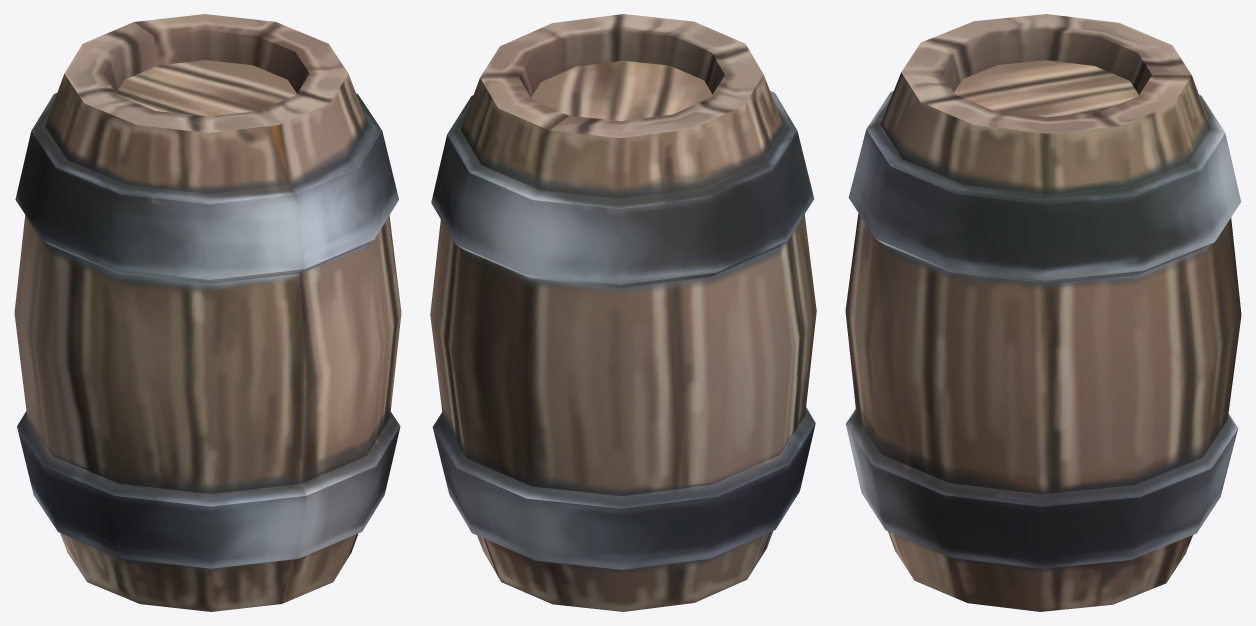
Rendered from barrel.FBX.
3 views of the same model, side by side, from view 1: azimuth 30°, elevation 25°; view 2: azimuth 150°, elevation 25°; view 3: azimuth 270°, elevation 25° (orthographic).
Parts seen in each view (by area): view 1: barrel; view 2: barrel; view 3: barrel.
Boxes of the visible parts, box(x1,y1,x2,y2) form: barrel: box(14, 14, 401, 611); barrel: box(430, 14, 816, 611); barrel: box(845, 14, 1241, 611).
Bounding box in the file's own units: 27.71 × 38.16 × 28.45.
